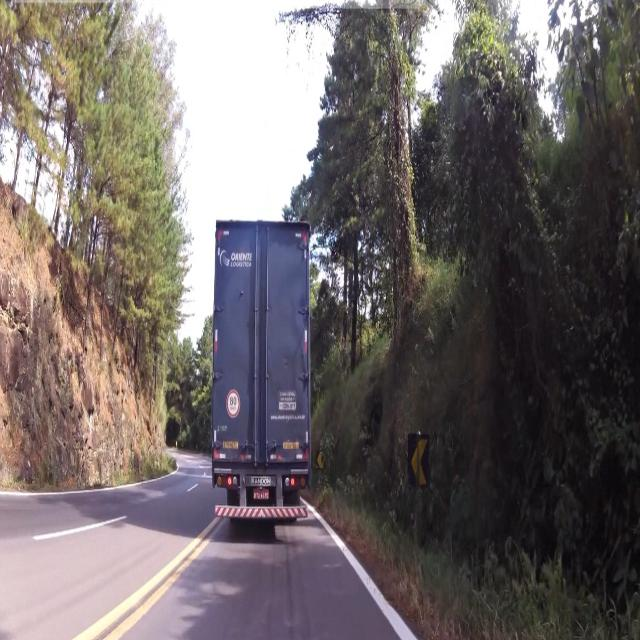Del: (408, 431, 432, 488)
R-19: (225, 388, 241, 421)
